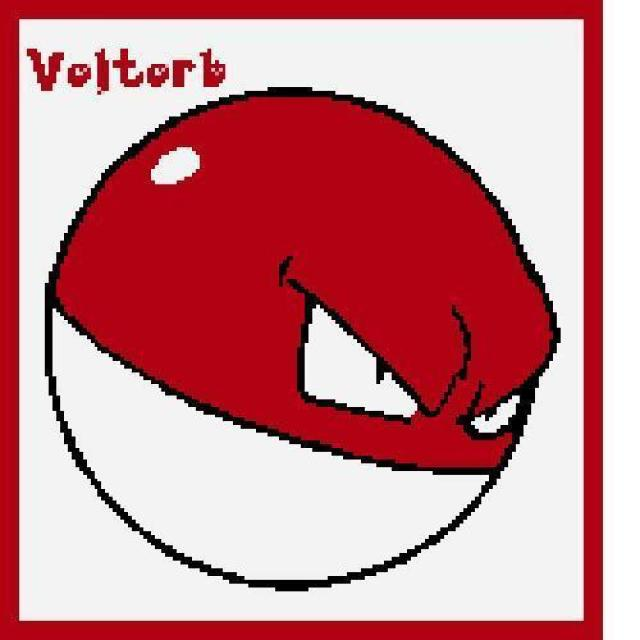Voltorb: (38, 84, 594, 602)
